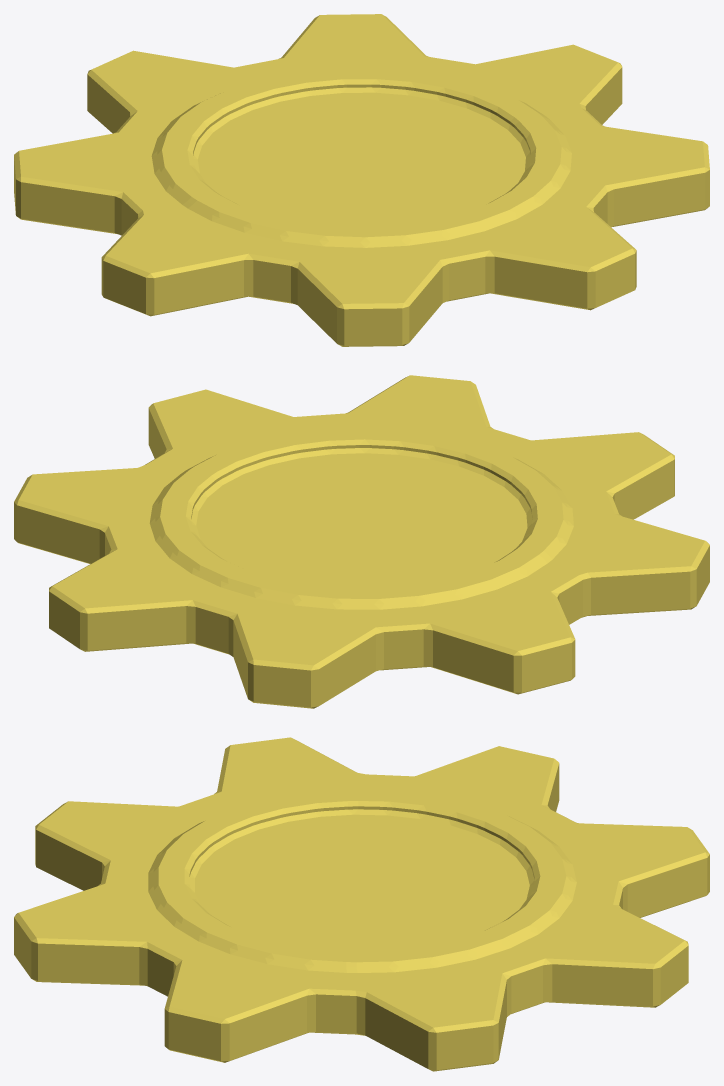
File: cog 1.fbx
3 renders of one model, top to bottom at view 1: azimuth 30°, elevation 25°; view 2: azimuth 150°, elevation 25°; view 3: azimuth 270°, elevation 25°, orthographic. The views are drawn at different scales.
Visible parts, largest first — view 1: Cylinder; view 2: Cylinder; view 3: Cylinder.
Part boxes in pixels (box(x1,y1,x2,y2)): Cylinder: box(14, 14, 709, 346); Cylinder: box(14, 375, 709, 708); Cylinder: box(14, 737, 709, 1071).
Size of the model in its own units: 977 by 94.31 by 977.
